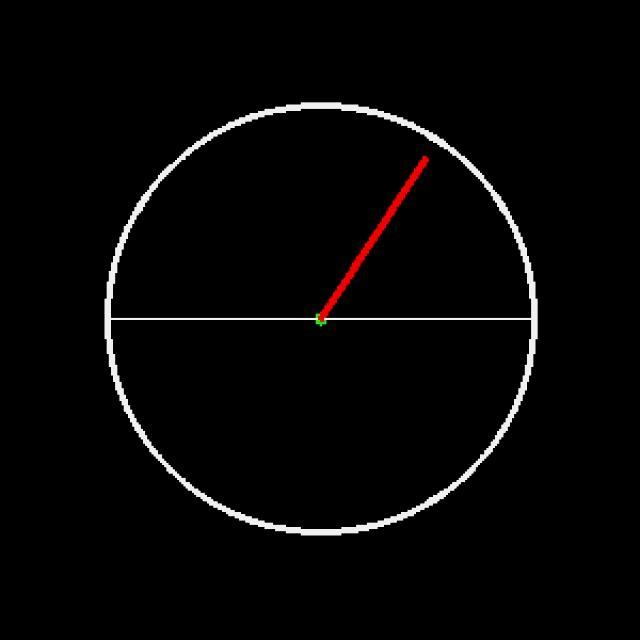Needle_Tip: (372, 133, 468, 201)
Needle_base: (293, 282, 354, 348)
